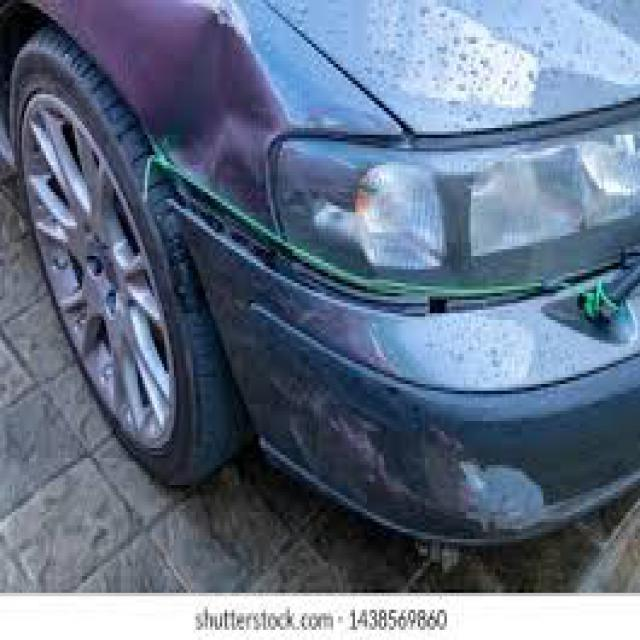fender-dent: (65, 0, 272, 367)
front-bumper-dent: (196, 269, 621, 556)
